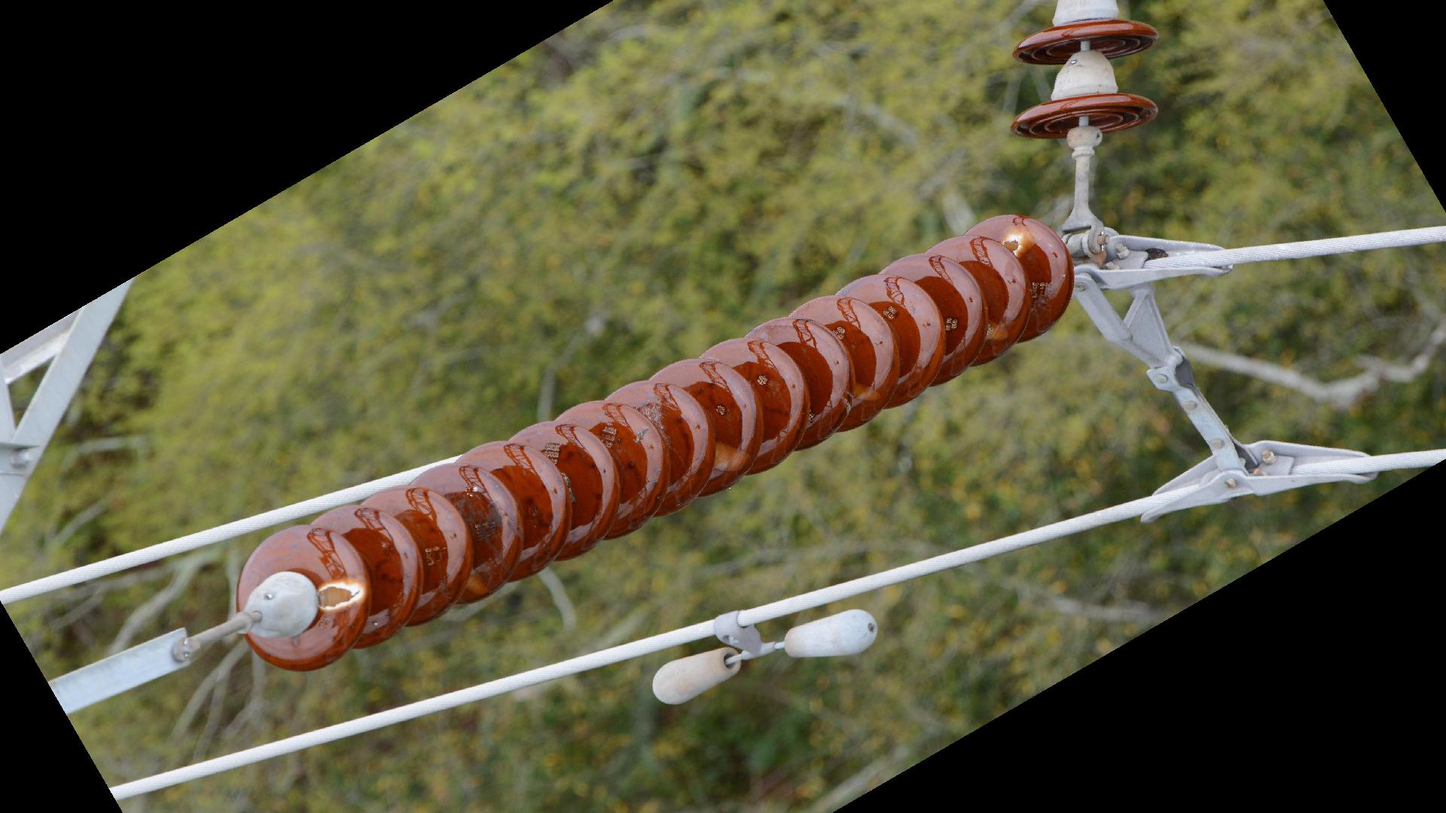insulator: (234, 204, 1080, 677), (1003, 1, 1165, 148)
insulator_flashover: (312, 577, 364, 614), (711, 439, 753, 478), (1001, 222, 1037, 255)
